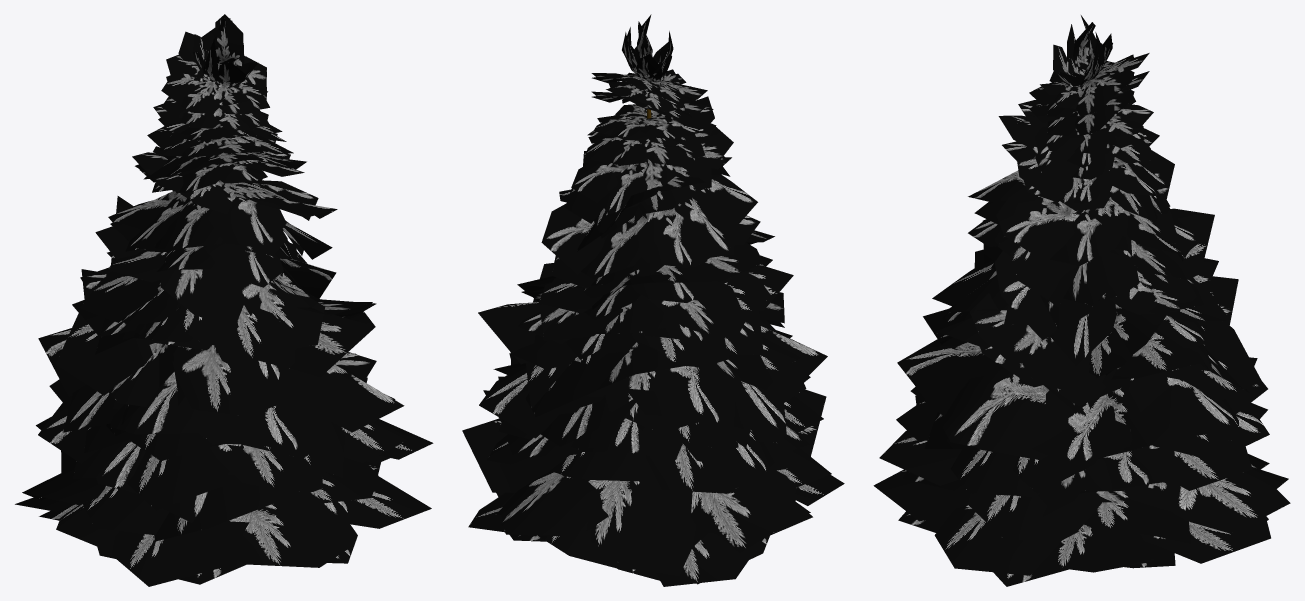
The model's file is ChrisTree.fbx.
The picture shows the model from 3 angles, left to right: view 1: azimuth 30°, elevation 25°; view 2: azimuth 150°, elevation 25°; view 3: azimuth 270°, elevation 25°; orthographic projection. The views are drawn at different scales.
Visible parts, largest first — view 1: ChrisTreeBranches; view 2: ChrisTreeBranches; view 3: ChrisTreeBranches.
Boxes of the visible parts, box(x1,y1,x2,y2) form: ChrisTreeBranches: box(15, 14, 433, 586); ChrisTreeBranches: box(462, 14, 844, 586); ChrisTreeBranches: box(873, 15, 1290, 586).
Size of the model in its own units: 33.82 by 49.08 by 35.58.
